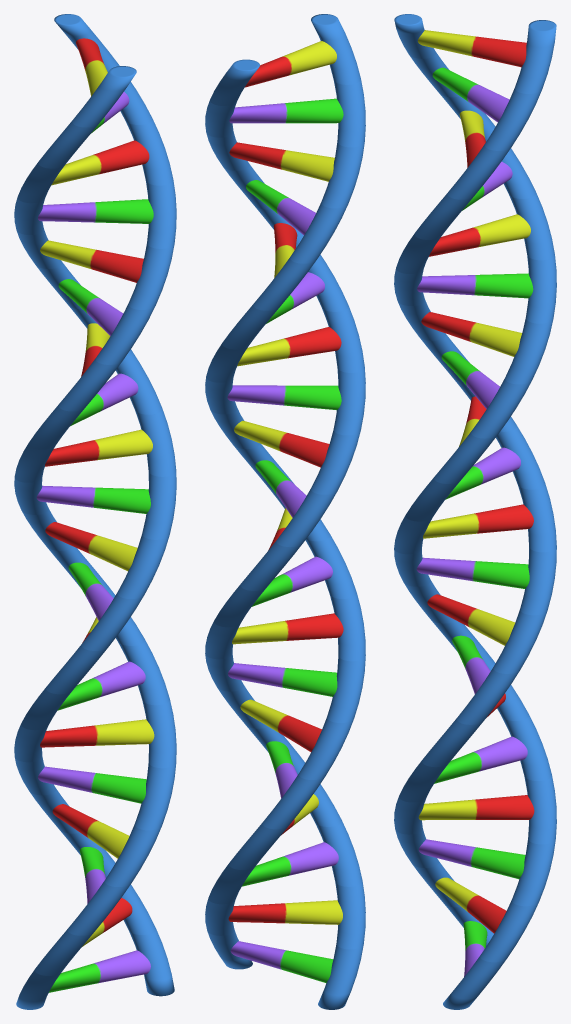
Rendered from DNA.fbx.
3 views of the same model, side by side, from view 1: azimuth 30°, elevation 25°; view 2: azimuth 150°, elevation 25°; view 3: azimuth 270°, elevation 25° (orthographic).
Visible parts, largest first — view 1: DNA; view 2: DNA; view 3: DNA.
Boxes of the visible parts, x1=… form: DNA: x1=14, y1=14, x2=176, y2=1009; DNA: x1=205, y1=14, x2=365, y2=1009; DNA: x1=394, y1=14, x2=556, y2=1009.
Size of the model in its own units: 619 by 4000 by 619.
Materials: 1 (1 with a texture image).
